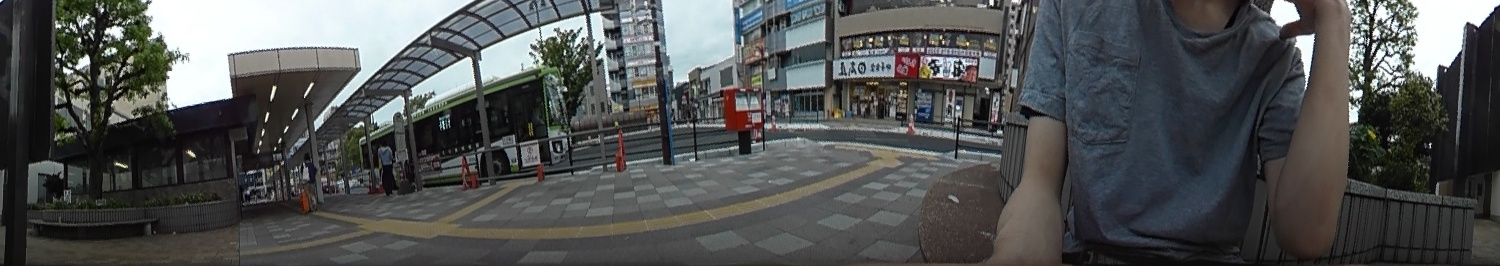person: (299, 152, 319, 207), (375, 139, 394, 194)
